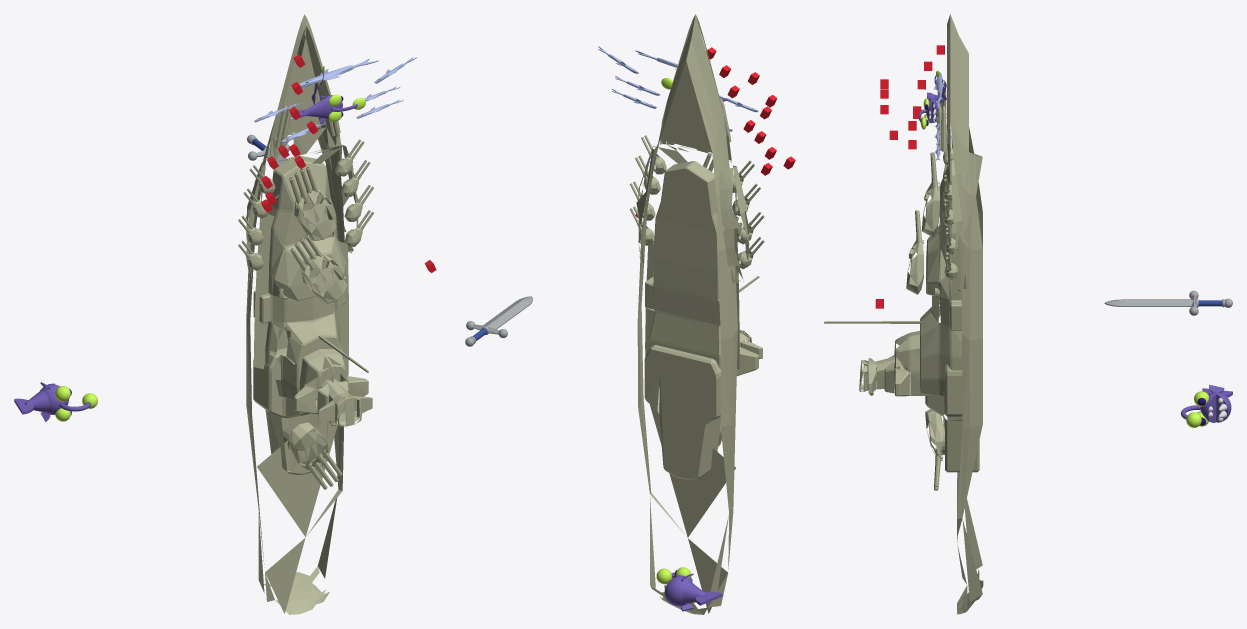
The model's file is tinker.obj.
The picture shows the model from 3 angles, left to right: view 1: azimuth 30°, elevation 25°; view 2: azimuth 150°, elevation 25°; view 3: azimuth 270°, elevation 25°; orthographic projection.
Visible parts, largest first — view 1: obj_0, obj_17, obj_3, obj_2; view 2: obj_0, obj_17, obj_4, obj_3; view 3: obj_0, obj_17, obj_4.
Part boxes in pixels (<box>): obj_0: <box>238,14,373,614</box>; obj_17: <box>14,382,97,421</box>; obj_3: <box>254,57,416,143</box>; obj_2: <box>298,94,365,124</box>; obj_0: <box>630,14,764,614</box>; obj_17: <box>656,567,722,611</box>; obj_4: <box>465,296,532,346</box>; obj_3: <box>598,46,757,131</box>; obj_0: <box>824,14,983,614</box>; obj_17: <box>1181,384,1232,427</box>; obj_4: <box>1104,290,1232,315</box>.
Size of the model in its own units: 193 by 423 by 262.
